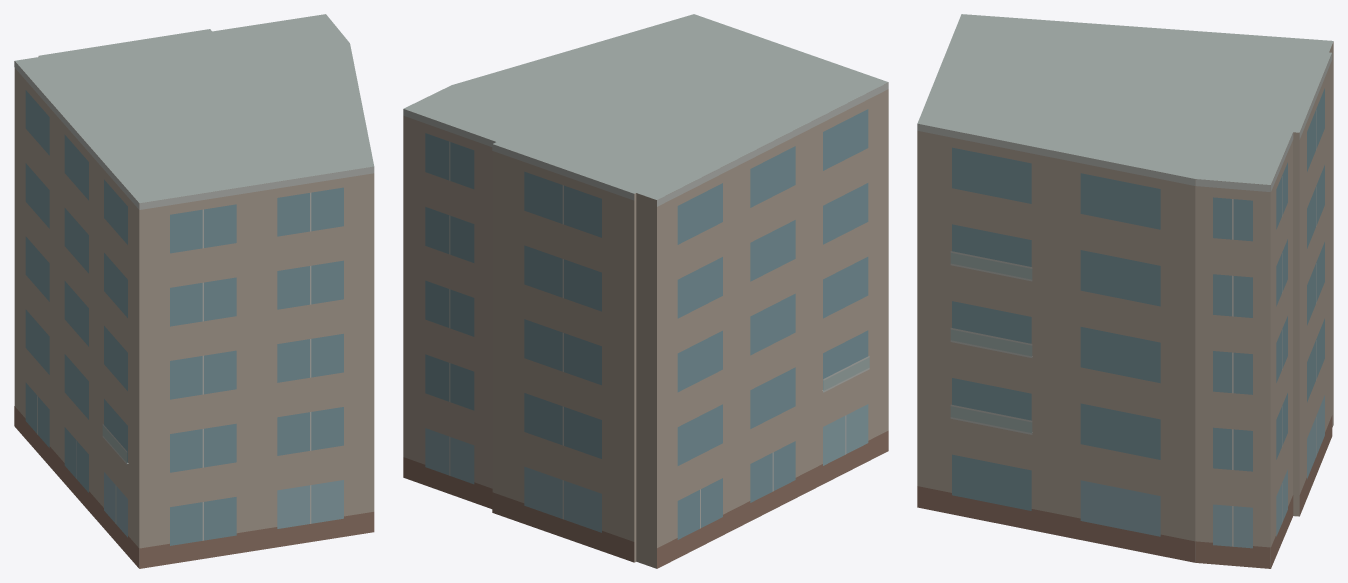
Rendered from survey-upis-32527701.glb.
3 renders of one model, left to right at view 1: azimuth 30°, elevation 25°; view 2: azimuth 150°, elevation 25°; view 3: azimuth 270°, elevation 25°, orthographic. The views are drawn at different scales.
Visible parts, largest first — view 1: survey-upis-32527701.tmp; view 2: survey-upis-32527701.tmp; view 3: survey-upis-32527701.tmp.
Part boxes in pixels (x1,y1,x2,y2): survey-upis-32527701.tmp: (14,14,374,568); survey-upis-32527701.tmp: (403,14,888,568); survey-upis-32527701.tmp: (917,14,1333,568).
Size of the model in its own units: 12.63 by 13.2 by 12.98.
